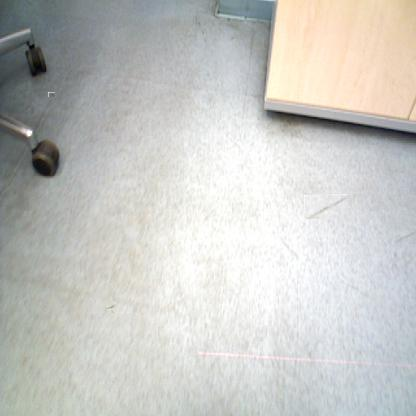mark: (304, 194, 347, 220), (394, 232, 416, 246), (106, 302, 116, 312), (48, 92, 54, 98)
